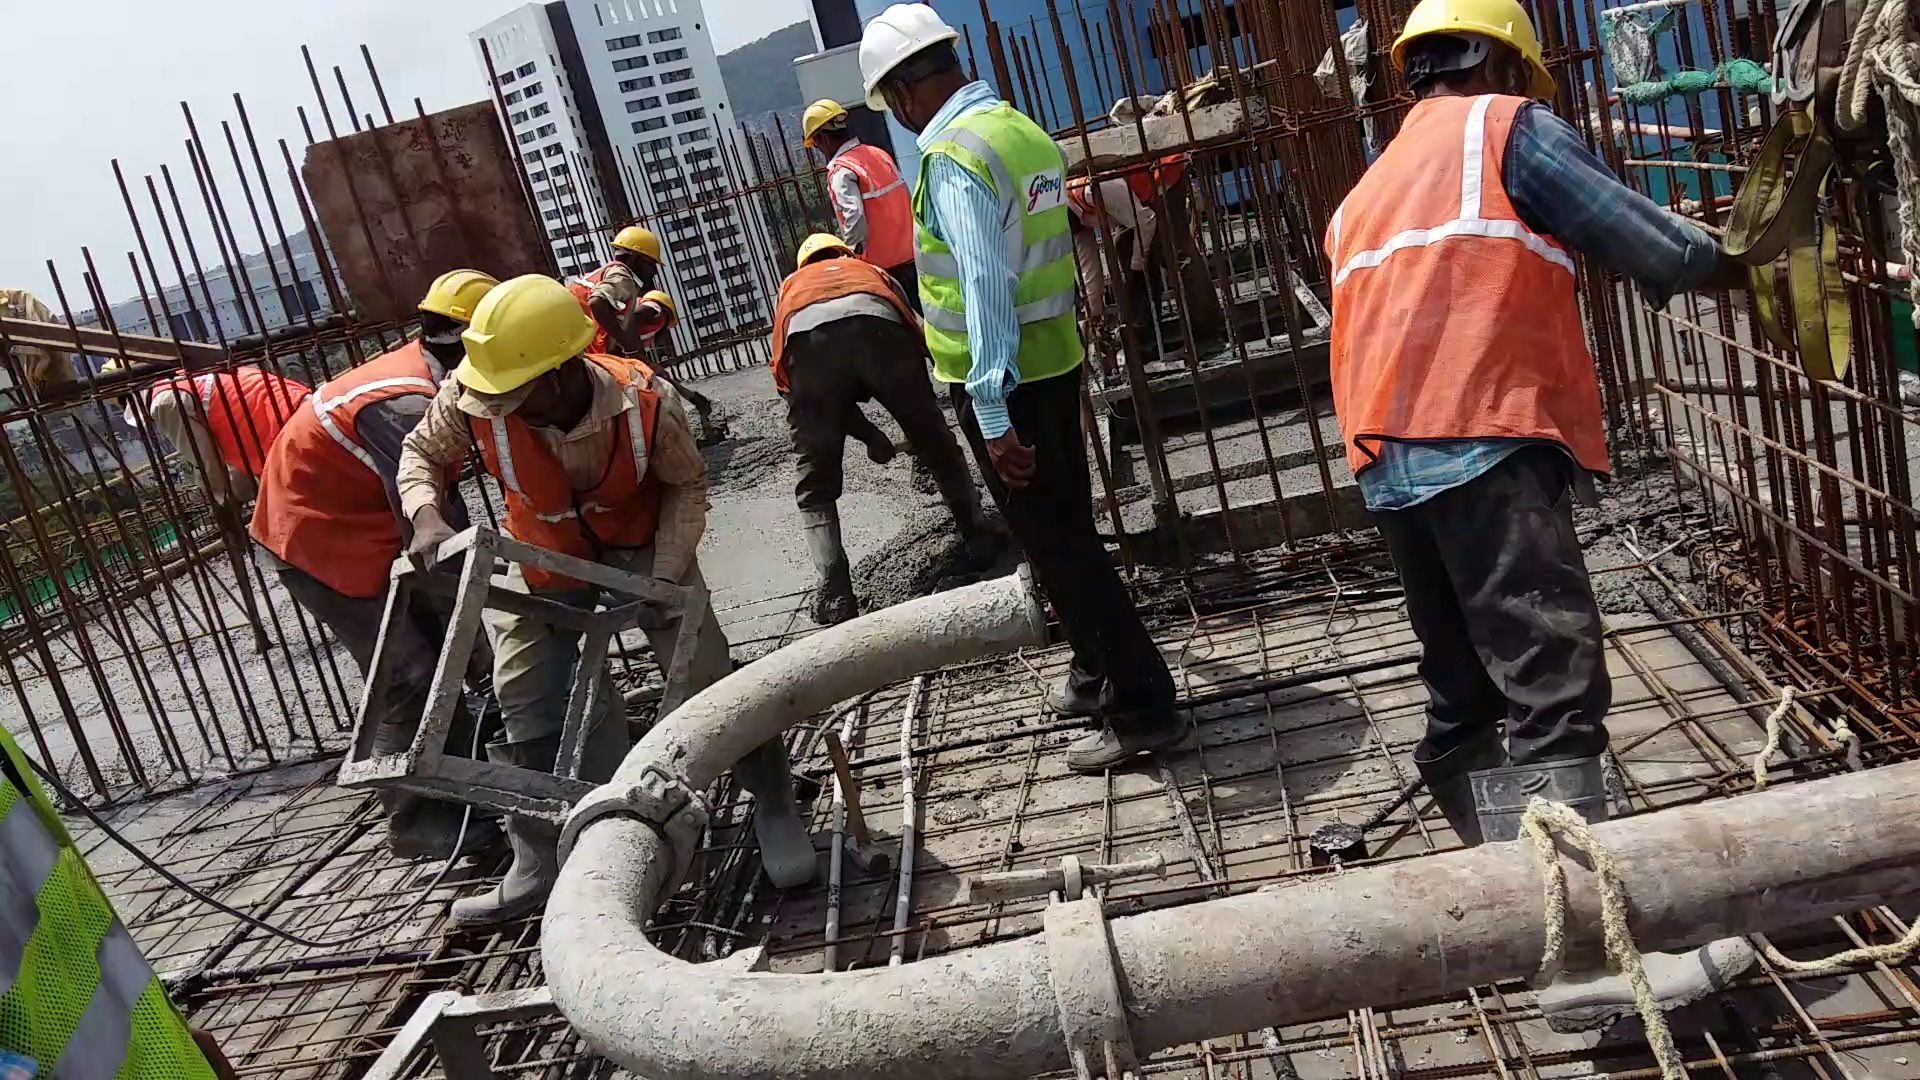SAFE: (1337, 1, 1578, 479), (865, 5, 1069, 393), (439, 270, 646, 588), (807, 98, 905, 249)
